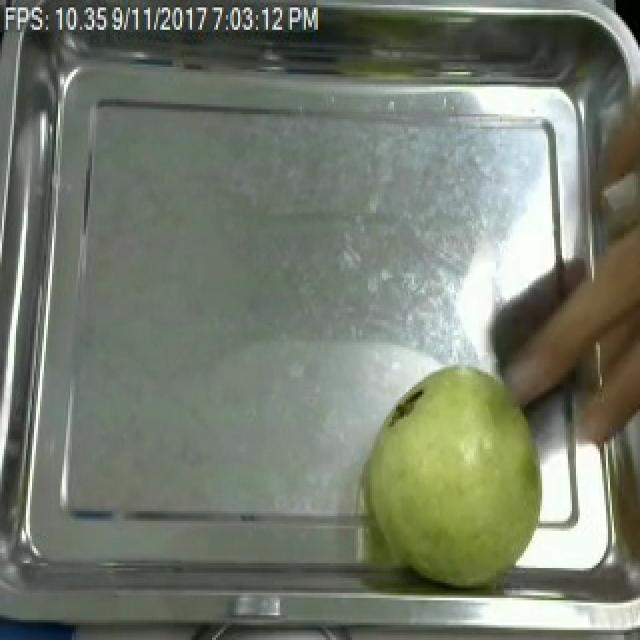Fruit: (354, 355, 556, 595), (478, 196, 640, 424)
